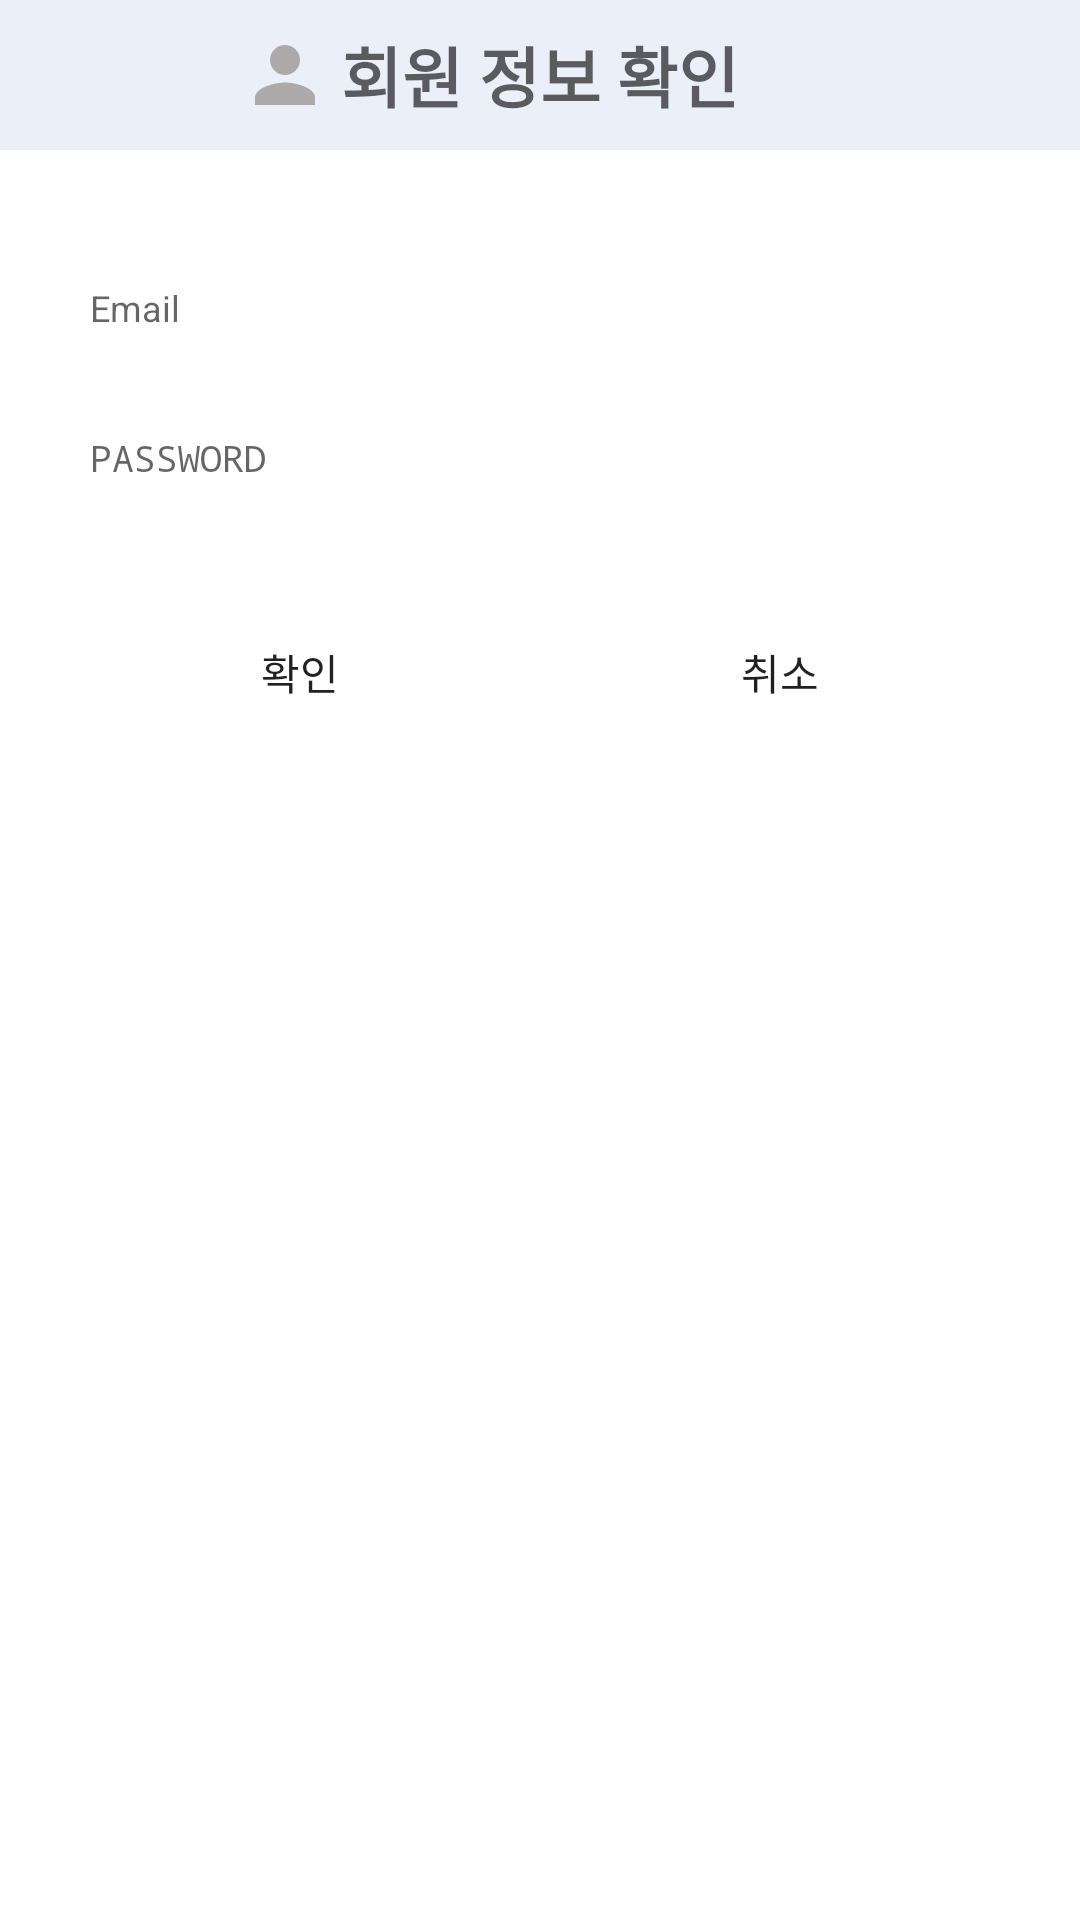

Point at icon controls on the screen. Image size 1080 × 1920, points as [x,y].
person: [285,75]
